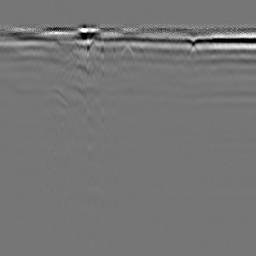cavity: (119, 42, 135, 61)
